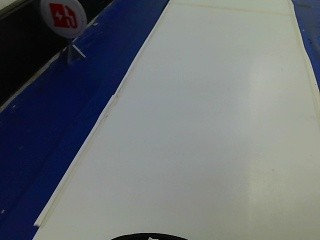battery: (37, 0, 86, 38)
